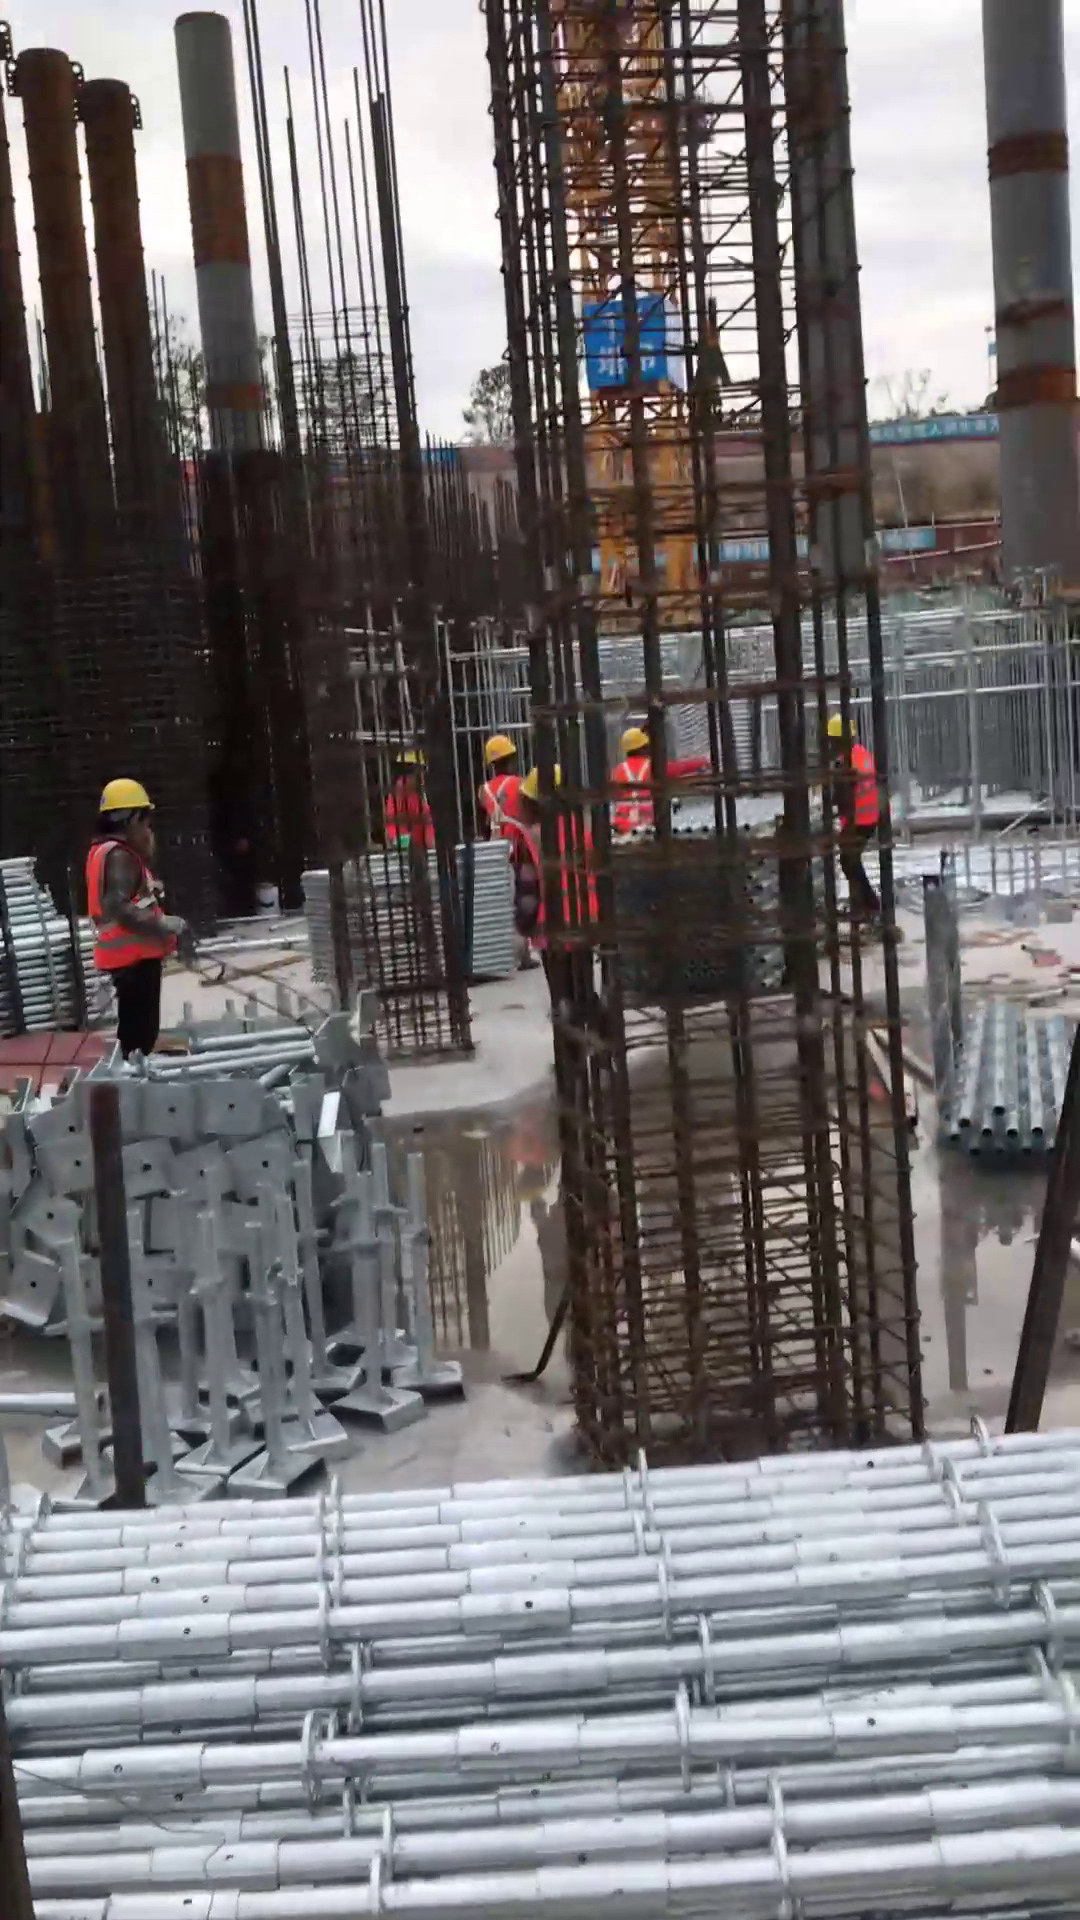helmet: (87, 765, 157, 818), (471, 727, 523, 774)
person: (76, 761, 207, 1089), (466, 715, 537, 877)
scaffold: (1, 1410, 1076, 1912)
slogan: (861, 403, 1004, 446)
vest: (79, 835, 182, 974), (474, 769, 526, 848)
